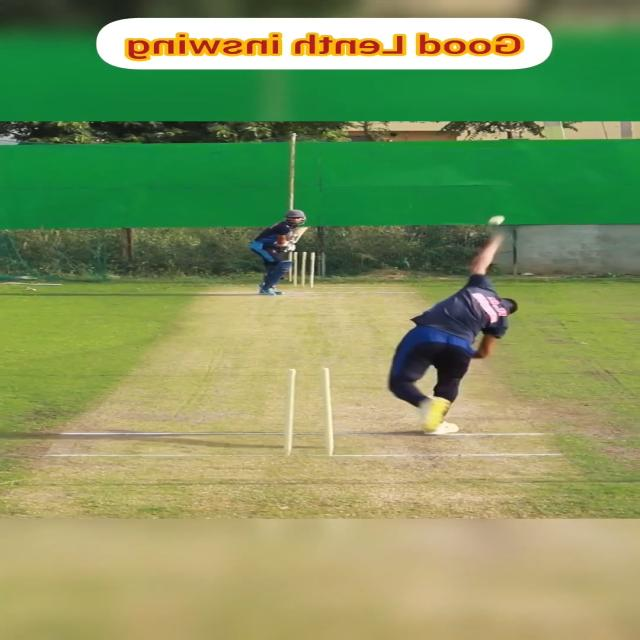ball: (488, 215, 505, 228)
stump: (282, 367, 336, 456), (292, 251, 317, 289)
